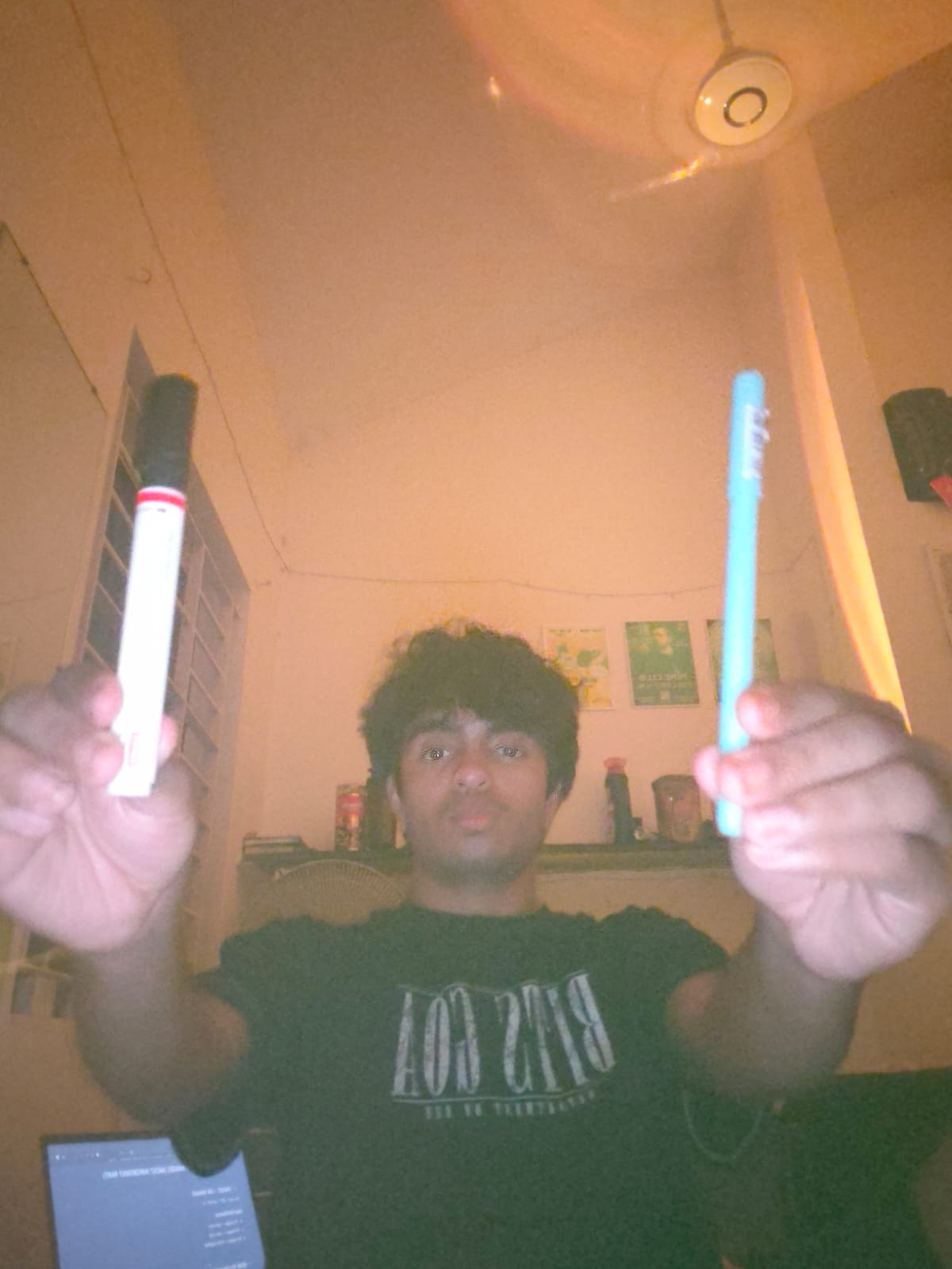case: (96, 364, 204, 806)
pen: (706, 364, 776, 848)
